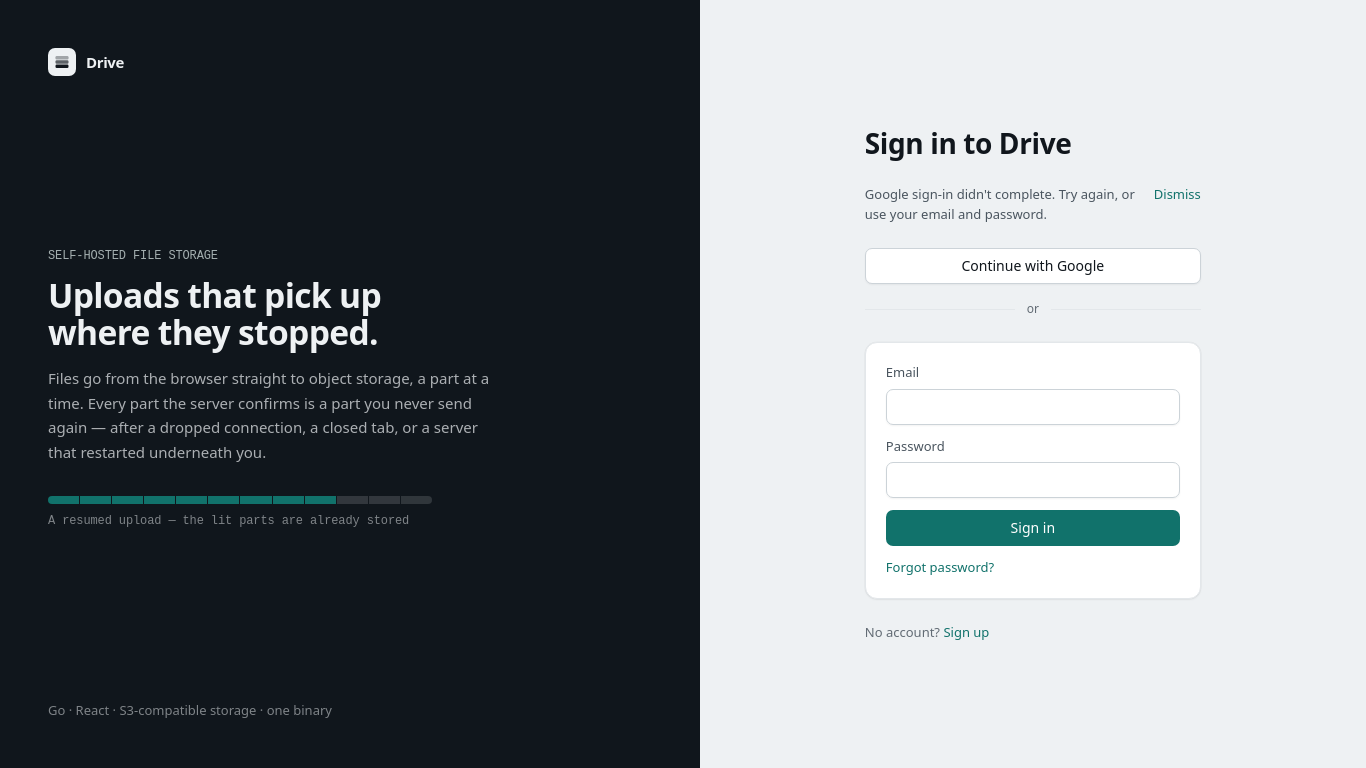
Test: what a round trip that came back with nothing says › takes the parameter out of the URL when dismissed, so a reload is not shown it again
The width and height of the screenshot is (1366, 768).
Click the button "Dismiss": [1177, 195] box [1154,185,1201,204]
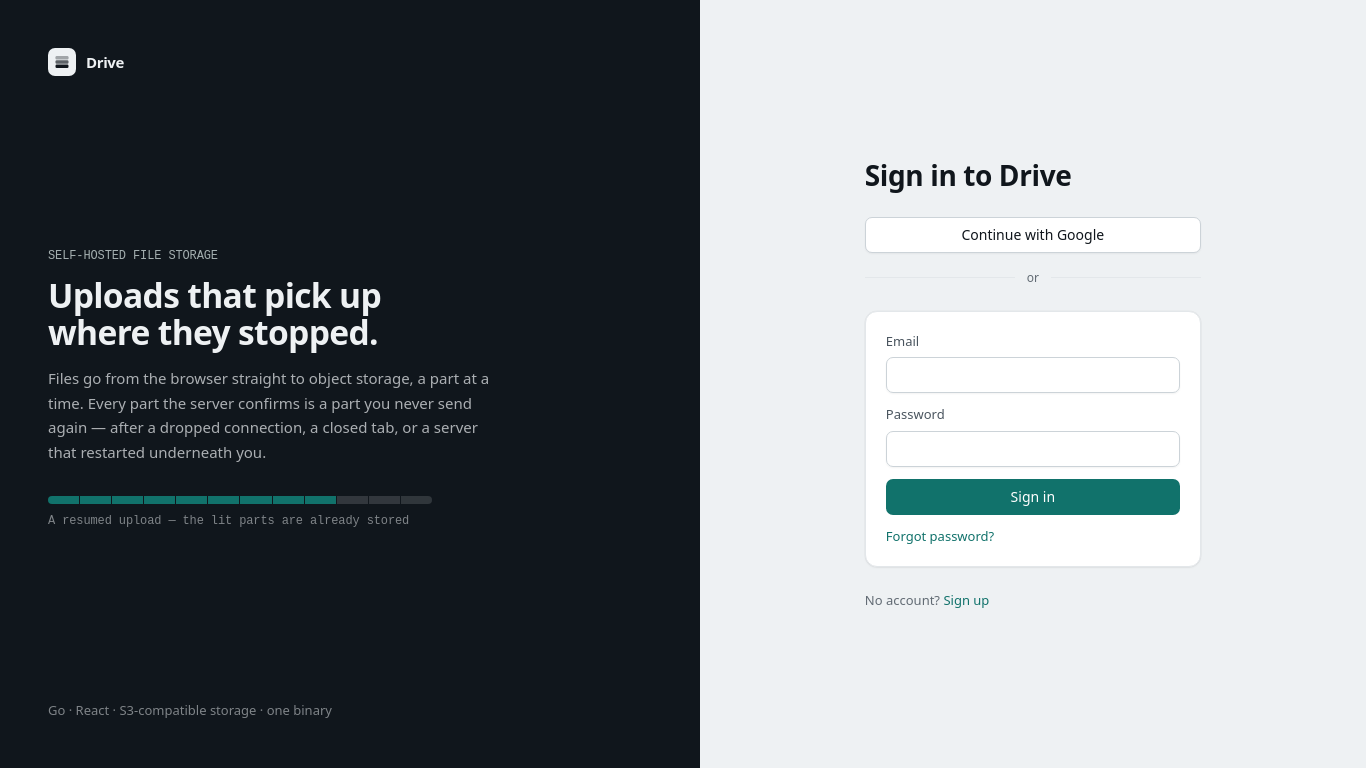
Now the message is gone
